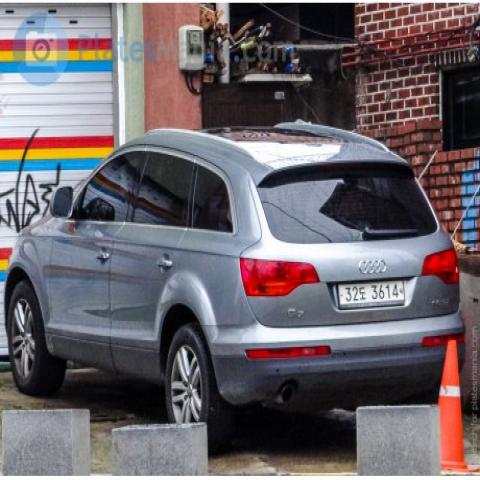LP: (332, 271, 410, 313)
